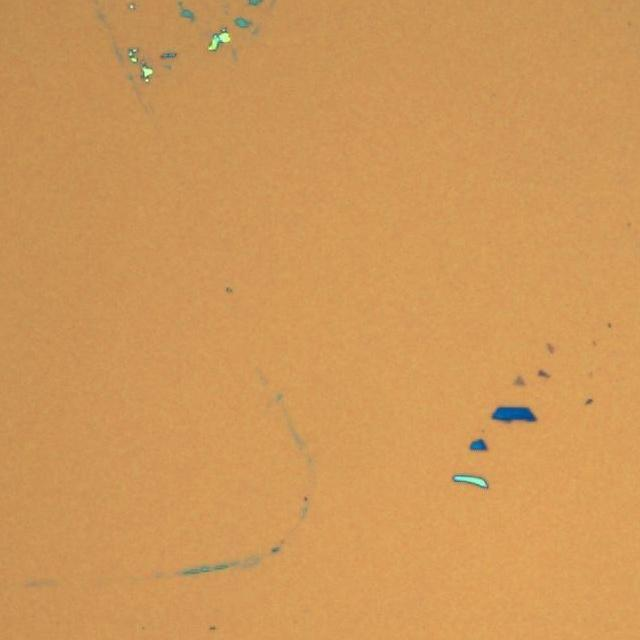monolayer-eWW4: (513, 374, 525, 386), (546, 342, 555, 354)
